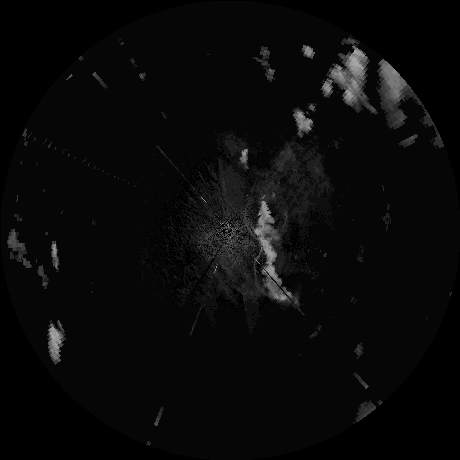frontgust: (243, 199, 262, 240), (253, 249, 267, 299)
